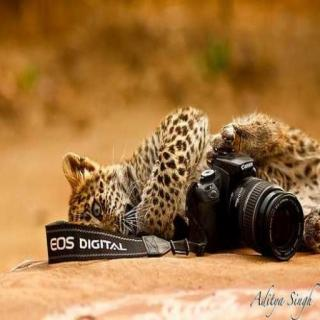Leopard: (58, 116, 320, 264)
